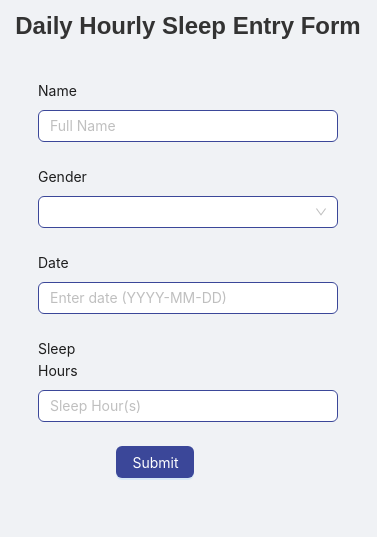
Test: Post Form › Sleep time must be between 1 and 24
The width and height of the screenshot is (377, 537).
Type "0.1" into the number field labelled "Sleep Hours". click: (188, 406)
box: [38,390,338,422]
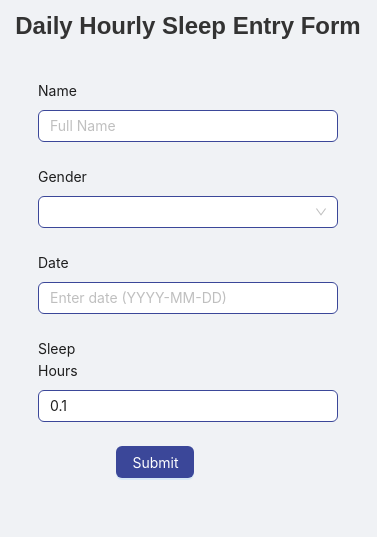
Click the button "Submit". click: (155, 462)
box: [116,446,194,478]
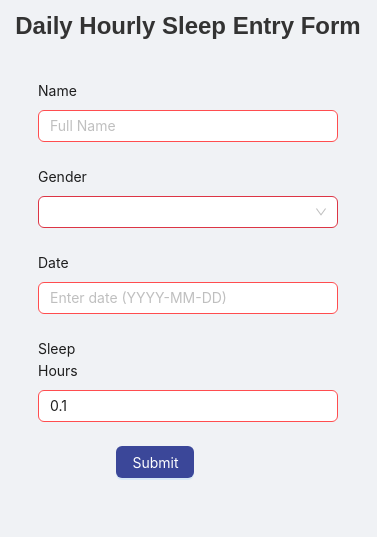
Replace the text in the number field labelled "Sleep Hours" with "30". click: (188, 406)
box: [38,390,338,422]
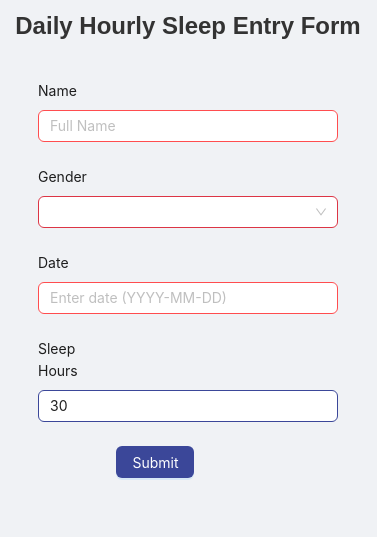
Click the button "Submit". click: (155, 462)
box: [116,446,194,478]
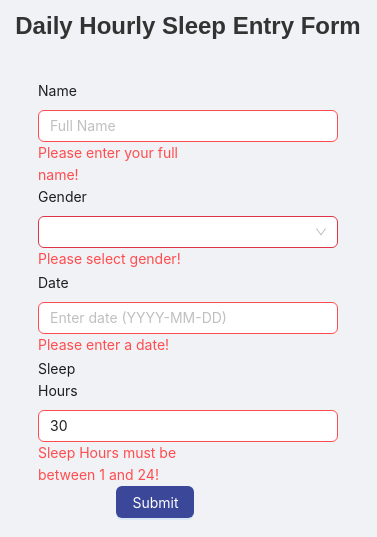
Expected: the text "Sleep Hours must be between 1 and 24!" is shown, [38,444,176,483]
